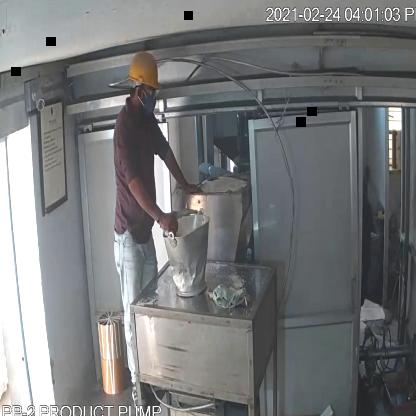helmet: (124, 48, 163, 90)
